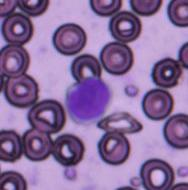L: (64, 76, 114, 125)
